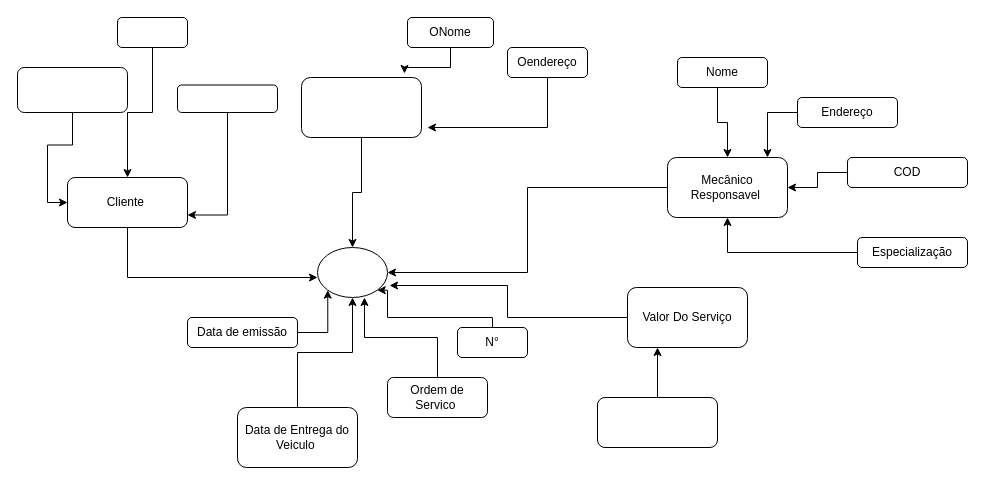
This 985x485 diagram has some shape labels left out. The shapes that lost their labels are listed below. From the top down, each one's centre as x and y in pixels, then its label:
At (x=152, y=32): "CNome".
At (x=72, y=89): "Autorização do Cliente".
At (x=227, y=98): "Cendereço".
At (x=361, y=107): "Oficina".
At (x=352, y=272): "OS".
At (x=657, y=422): "Valor de Peças".
